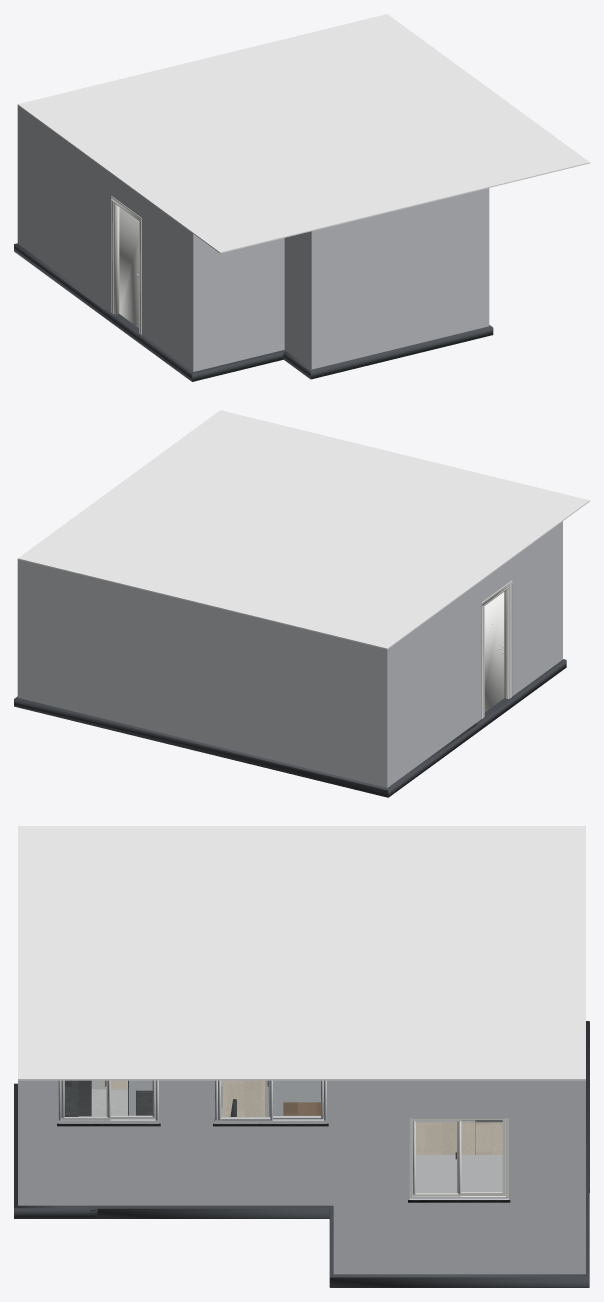
Rendered from apartamento.glb.
3 views of the same model, one above another, from view 1: azimuth 30°, elevation 25°; view 2: azimuth 150°, elevation 25°; view 3: azimuth 270°, elevation 25° (orthographic). The views are drawn at different scales.
Visible parts, largest first — view 1: Forro_Gesso, Parede_17, Parede_02, ParedeCorte_02, ParedeCorte_14, Parede_03, Parede_18, Parede_19, ParedeCorte_03, ParedeCorte_13, Base_Laje_03, Porta_Entrada_Folha (+6 smaller); view 2: Forro_Gesso, Parede, Parede_02, ParedeCorte, Base_Laje, Parede_03, ParedeCorte_02, ParedeCorte_03, Porta_Entrada_Folha, Base_Laje_02, Parede_24, Parede_20 (+3 smaller); view 3: Forro_Gesso, Parede_13, Parede_15, Parede_07, ParedeCorte_05, Parede_05, Parede_06, ParedeCorte_04, Base_Laje, Parede_08, ParedeCorte_10, Base_Laje_02 (+19 smaller).
Part boxes in pixels (x1=…): Forro_Gesso: x1=17, y1=14, x2=589, y2=253; Parede_17: x1=319, y1=189, x2=482, y2=367; Parede_02: x1=17, y1=105, x2=113, y2=311; ParedeCorte_02: x1=17, y1=180, x2=111, y2=311; ParedeCorte_14: x1=200, y1=286, x2=284, y2=370; Parede_03: x1=140, y1=195, x2=199, y2=308; Parede_18: x1=200, y1=238, x2=284, y2=306; Parede_19: x1=284, y1=229, x2=319, y2=369; ParedeCorte_03: x1=142, y1=271, x2=199, y2=371; ParedeCorte_13: x1=319, y1=266, x2=482, y2=365; Base_Laje_03: x1=283, y1=325, x2=493, y2=379; Porta_Entrada_Folha: x1=119, y1=207, x2=138, y2=327; Forro_Gesso: x1=17, y1=410, x2=589, y2=649; Parede: x1=17, y1=559, x2=380, y2=786; Parede_02: x1=380, y1=579, x2=483, y2=787; ParedeCorte: x1=17, y1=635, x2=380, y2=783; Base_Laje: x1=14, y1=696, x2=478, y2=797; Parede_03: x1=509, y1=521, x2=562, y2=632; ParedeCorte_02: x1=380, y1=659, x2=481, y2=787; ParedeCorte_03: x1=512, y1=596, x2=562, y2=696; Porta_Entrada_Folha: x1=484, y1=592, x2=504, y2=712; Base_Laje_02: x1=475, y1=659, x2=566, y2=731; Parede_24: x1=240, y1=614, x2=246, y2=753; Parede_20: x1=341, y1=638, x2=350, y2=714; Forro_Gesso: x1=18, y1=826, x2=585, y2=1080; Parede_13: x1=214, y1=1122, x2=326, y2=1205; Parede_15: x1=58, y1=1122, x2=158, y2=1205; Parede_07: x1=409, y1=1198, x2=508, y2=1274; ParedeCorte_05: x1=333, y1=1185, x2=409, y2=1274; Parede_05: x1=509, y1=1080, x2=573, y2=1184; Parede_06: x1=346, y1=1080, x2=409, y2=1184; ParedeCorte_04: x1=509, y1=1185, x2=573, y2=1274; Base_Laje: x1=329, y1=1021, x2=589, y2=1287; Parede_08: x1=409, y1=1080, x2=508, y2=1117; ParedeCorte_10: x1=18, y1=1116, x2=58, y2=1205; Base_Laje_02: x1=90, y1=1205, x2=333, y2=1218.
Bounding box in the file's own units: 7.37 × 2.78 × 7.
Materials: 60 (23 with a texture image).
